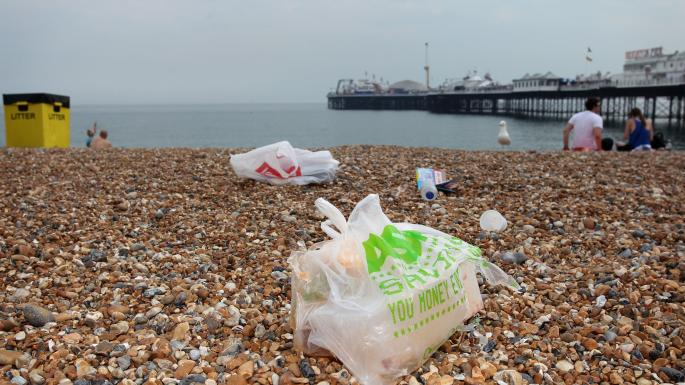litter: (255, 190, 511, 372), (208, 132, 354, 209), (405, 151, 454, 210)
